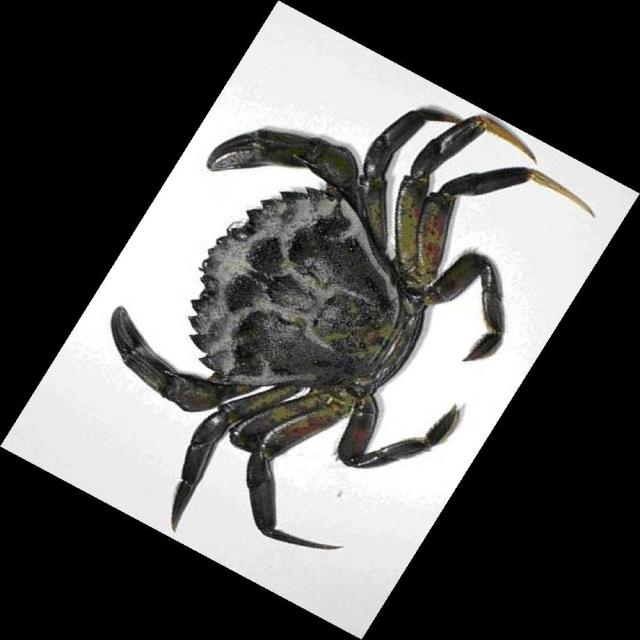European Green crab: (111, 108, 594, 549)
